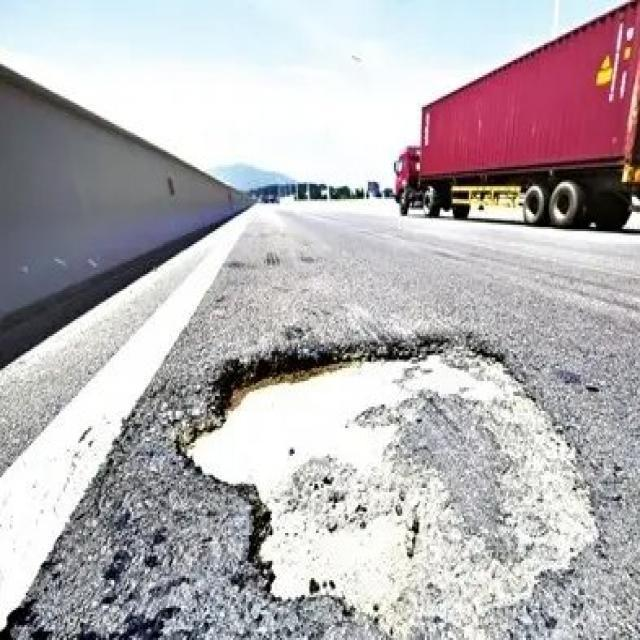pothole: (171, 319, 598, 625)
